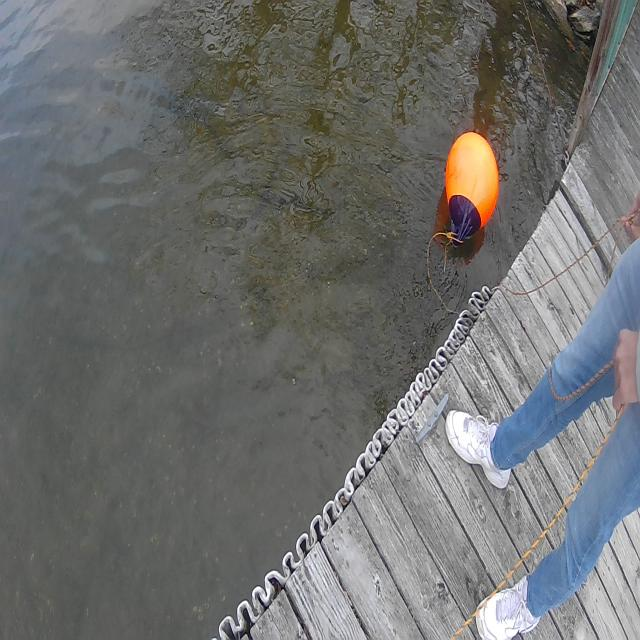Buoy: (439, 121, 502, 252)
